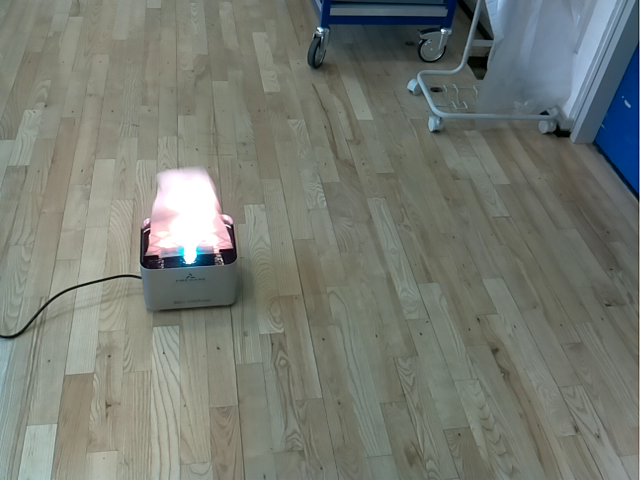fire: (143, 165, 233, 258)
